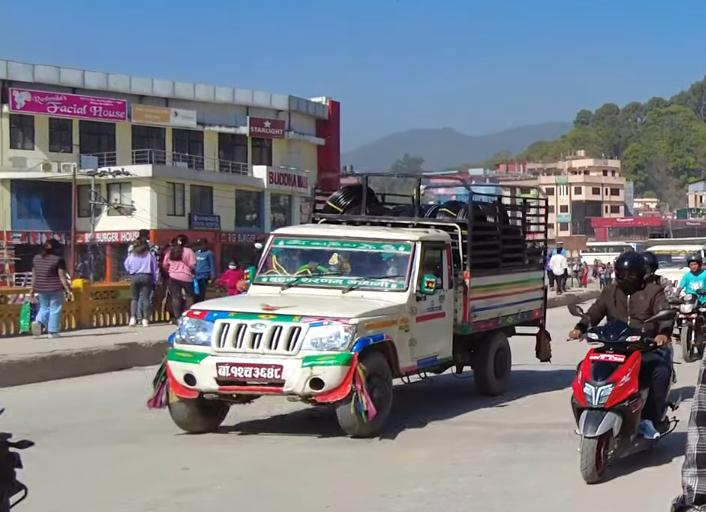scooter: (555, 237, 689, 492)
transport_vehicle: (127, 164, 564, 455)
